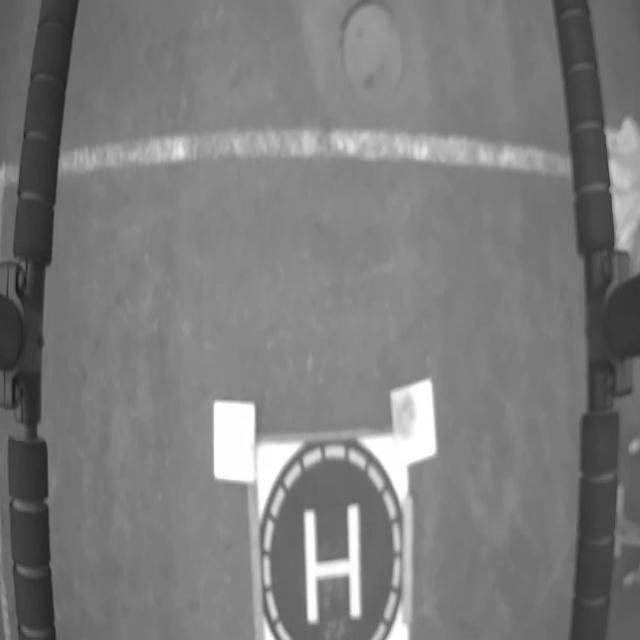Helipad: (304, 505, 362, 626)
